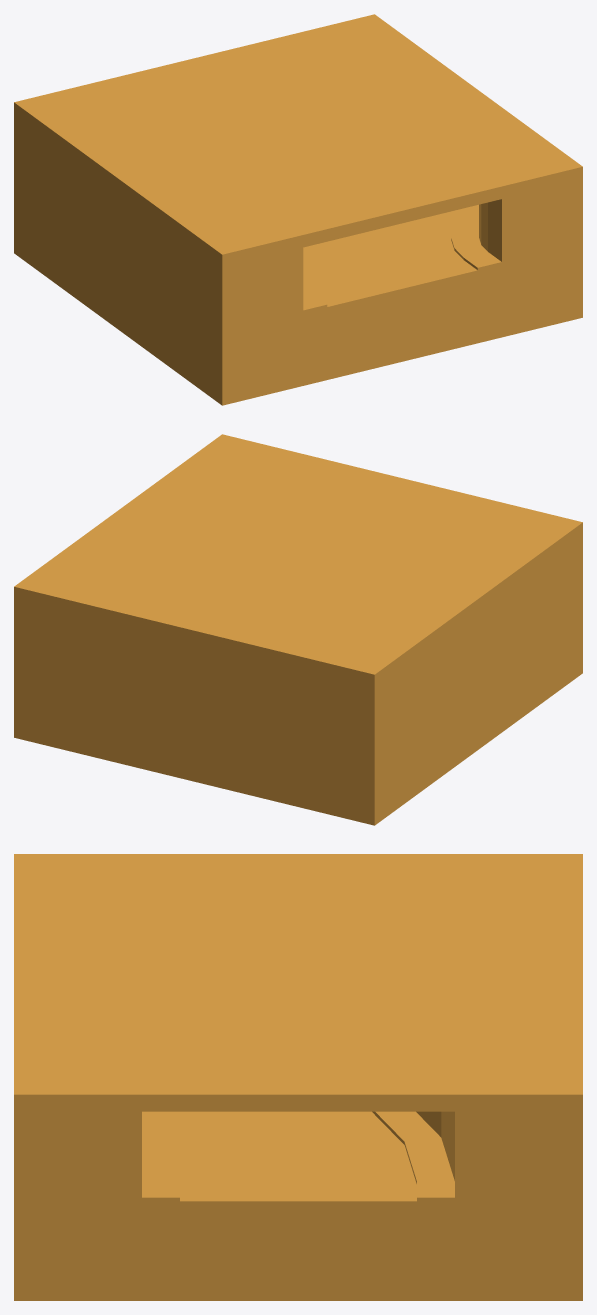
Rendered from tile-mainroad-tunnel-curve.glb.
3 renders of one model, top to bottom at view 1: azimuth 30°, elevation 25°; view 2: azimuth 150°, elevation 25°; view 3: azimuth 270°, elevation 25°, orthographic. The views are drawn at different scales.
Visible parts, largest first — view 1: tile-mainroad-tunnel-curve; view 2: tile-mainroad-tunnel-curve; view 3: tile-mainroad-tunnel-curve.
Boxes of the visible parts, left/top/right/bottom form: tile-mainroad-tunnel-curve: left=14, top=14, right=582, bottom=405; tile-mainroad-tunnel-curve: left=14, top=434, right=582, bottom=825; tile-mainroad-tunnel-curve: left=14, top=854, right=582, bottom=1300.
Size of the model in its own units: 30 by 12 by 30.
